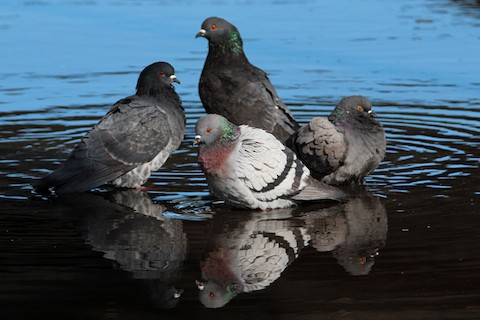pigeon: (33, 57, 189, 211), (189, 113, 344, 227), (191, 10, 312, 154), (285, 98, 391, 189)
